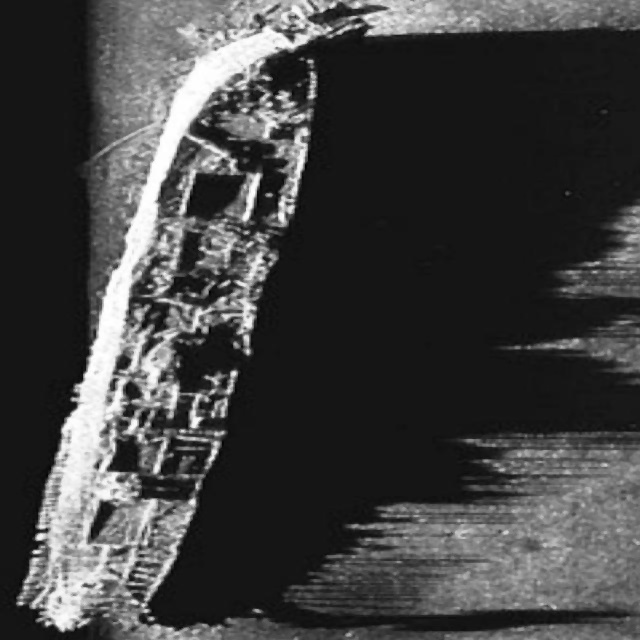Ship: (16, 0, 357, 640)
